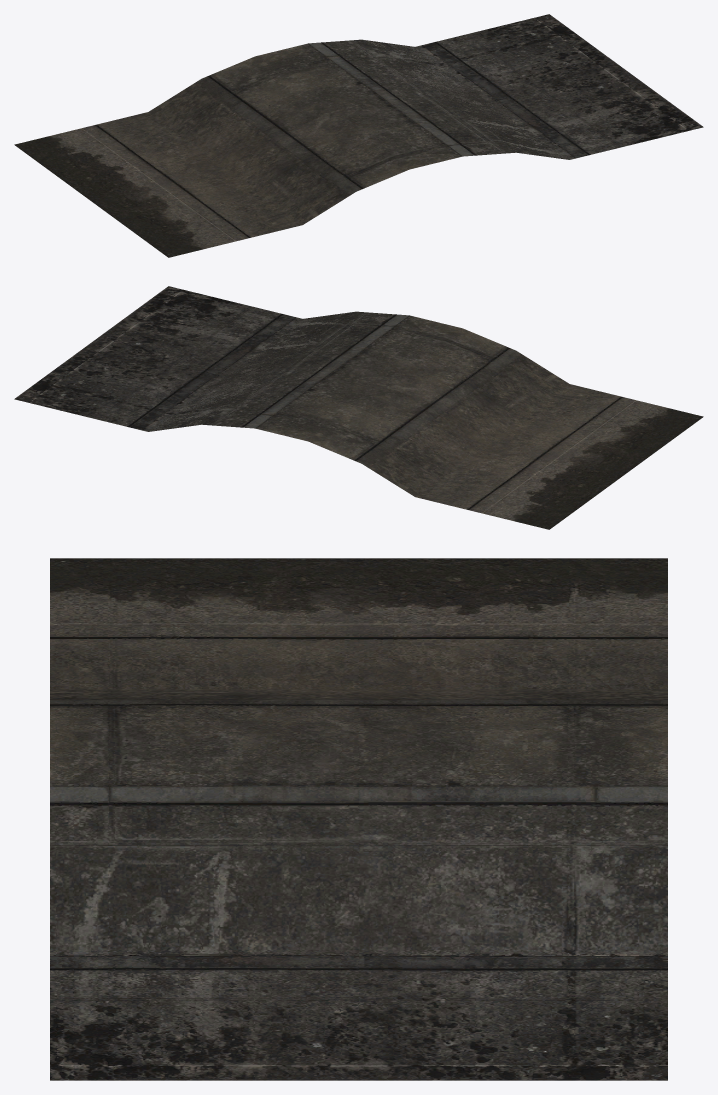
Rendered from tunnel_ceiling_small.DAE.
The picture shows the model from 3 angles, top to bottom: view 1: azimuth 30°, elevation 25°; view 2: azimuth 150°, elevation 25°; view 3: azimuth 270°, elevation 25°; orthographic projection. The views are drawn at different scales.
Parts seen in each view (by area): view 1: tunnels_ceiling_small; view 2: tunnels_ceiling_small; view 3: tunnels_ceiling_small.
Boxes of the visible parts, bbox=[...] form: tunnels_ceiling_small: bbox=[14, 14, 703, 257]; tunnels_ceiling_small: bbox=[14, 286, 703, 529]; tunnels_ceiling_small: bbox=[50, 558, 667, 1080].
Size of the model in its own units: 4 by 2 by 0.2107.
